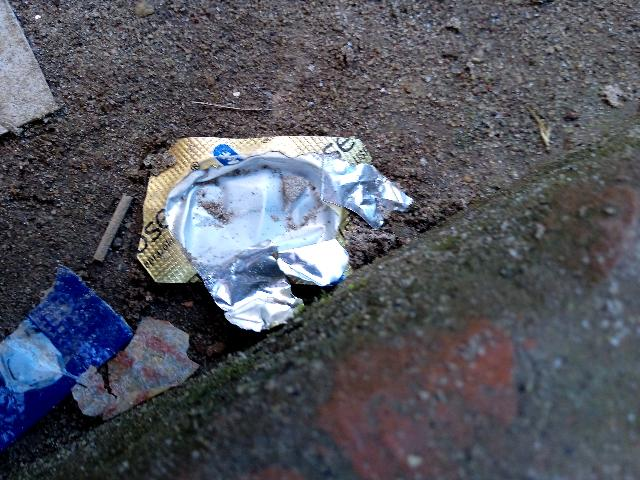medicine: (125, 122, 372, 286)
